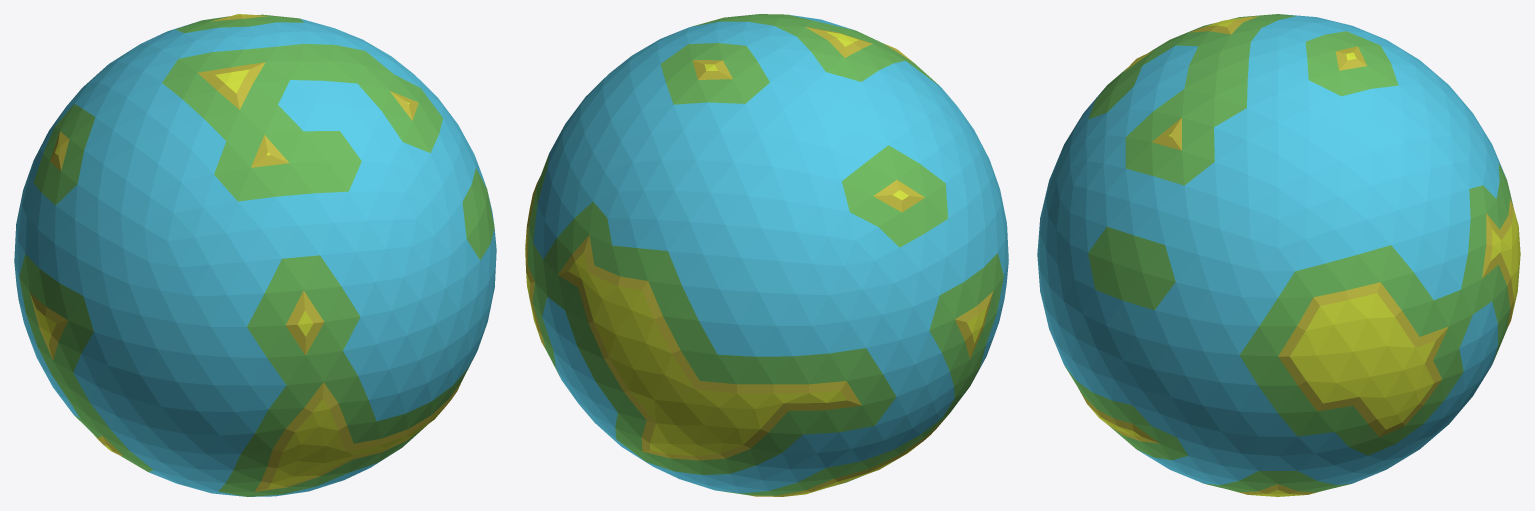
File: Planet_Earth_Low_Poly.fbx
3 renders of one model, left to right at view 1: azimuth 30°, elevation 25°; view 2: azimuth 150°, elevation 25°; view 3: azimuth 270°, elevation 25°, orthographic.
Visible parts, largest first — view 1: Icosphere; view 2: Icosphere; view 3: Icosphere.
Part boxes in pixels (x1=…): Icosphere: x1=14, y1=14, x2=496, y2=496; Icosphere: x1=525, y1=14, x2=1008, y2=496; Icosphere: x1=1037, y1=14, x2=1520, y2=496.
Size of the model in its own units: 201 by 200 by 201.
